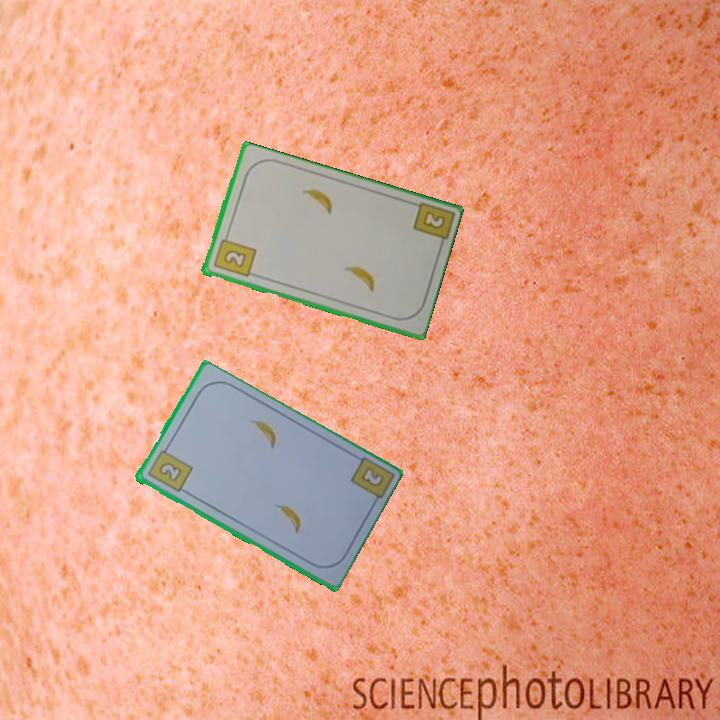2b: (144, 442, 195, 495), (210, 230, 258, 280), (419, 208, 448, 232), (360, 466, 384, 488)
